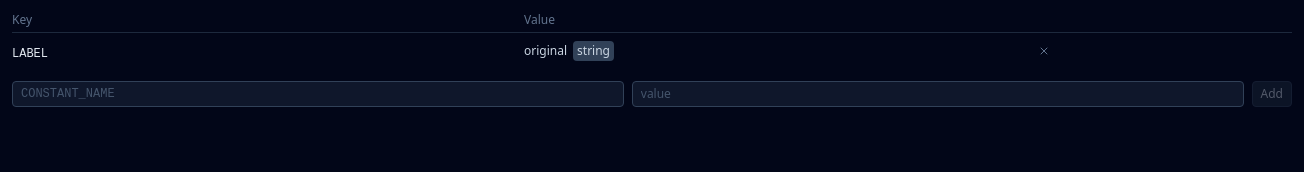
Scenario: ConstantsSection › Escape on value input cancels the edit
The width and height of the screenshot is (1304, 172).
Click the button with test id "constant-value-display-LABEL" at (546, 51), box [524,43,567,59]
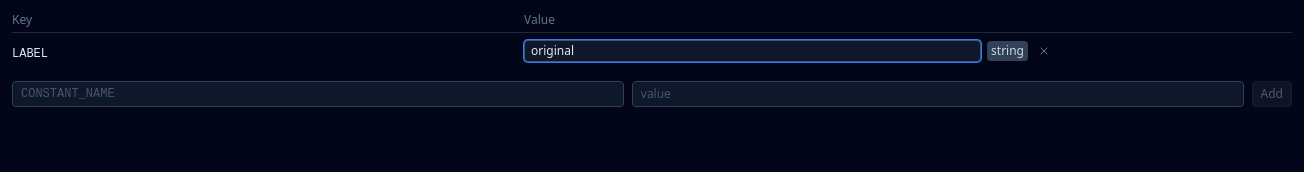
Replace the text in the field with test id "constant-value-input-LABEL" with "changed" at (753, 51), box [524,40,981,62]
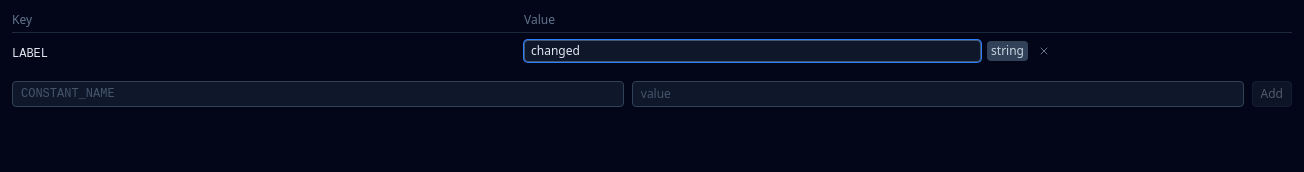
Press Escape
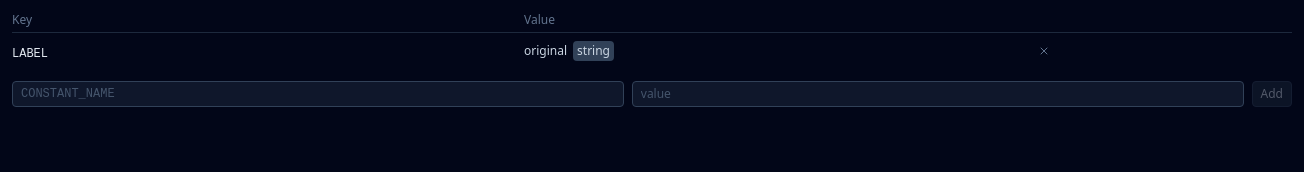
Check: the button with test id "constant-value-display-LABEL" reads "original", box [524,43,567,59]
